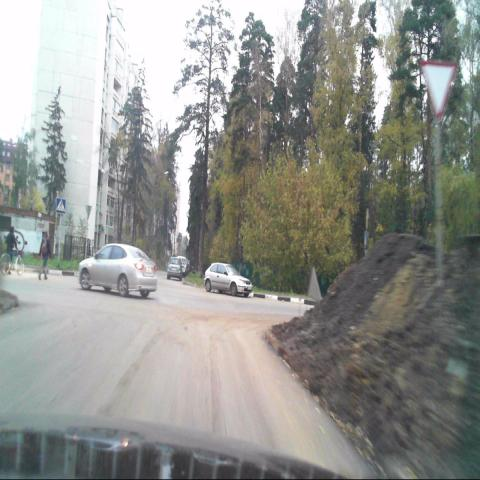2_4: (418, 61, 456, 122)
5_19_1: (56, 198, 66, 213)
